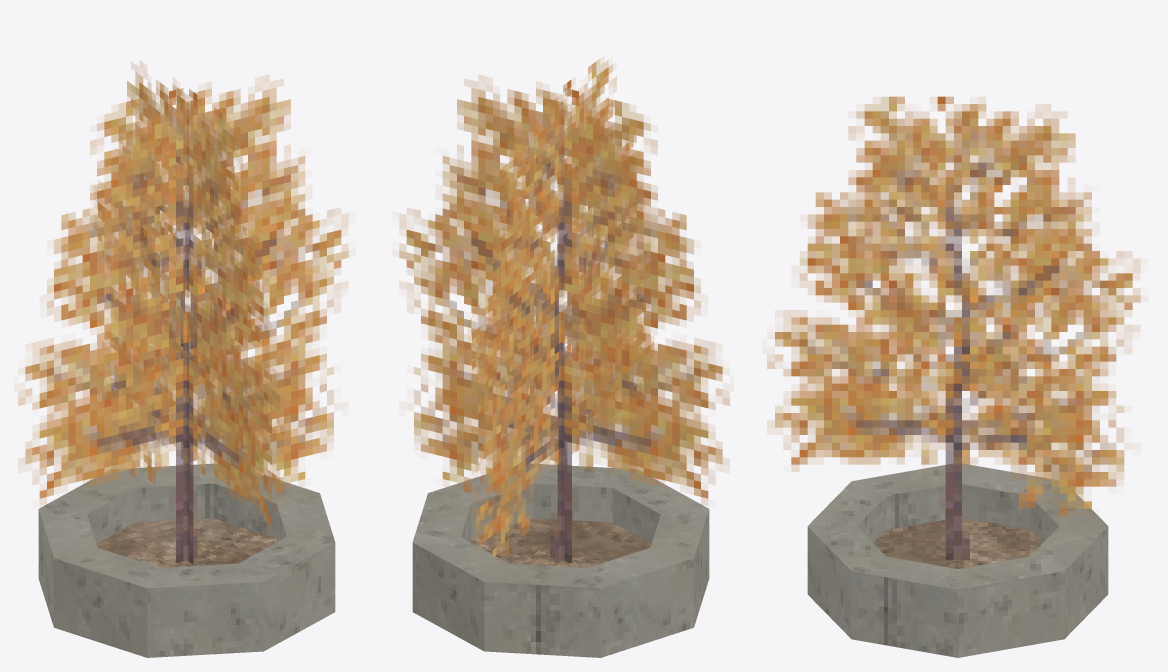
The model's file is tree-park-large.opt.glb.
The picture shows the model from 3 angles, left to right: view 1: azimuth 30°, elevation 25°; view 2: azimuth 150°, elevation 25°; view 3: azimuth 270°, elevation 25°; orthographic projection. The views are drawn at different scales.
Size of the model in its own units: 1.04 by 1.46 by 1.04.
Materials: 3 (3 with a texture image).
